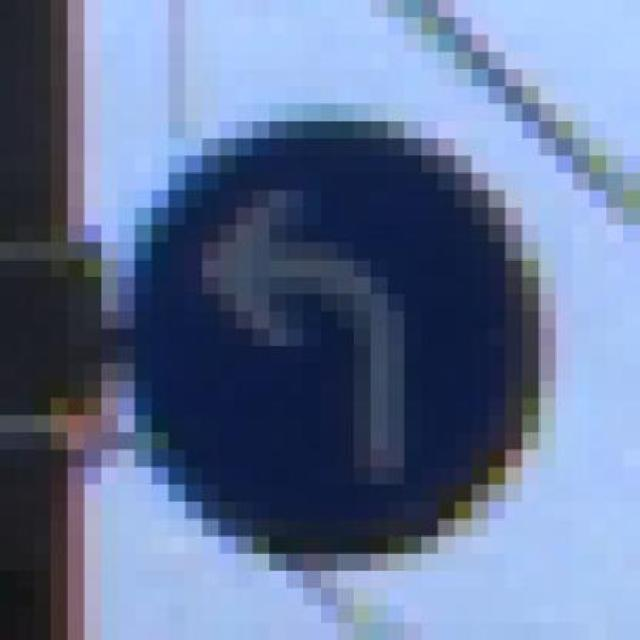Turn left ahead: (118, 103, 556, 554)
